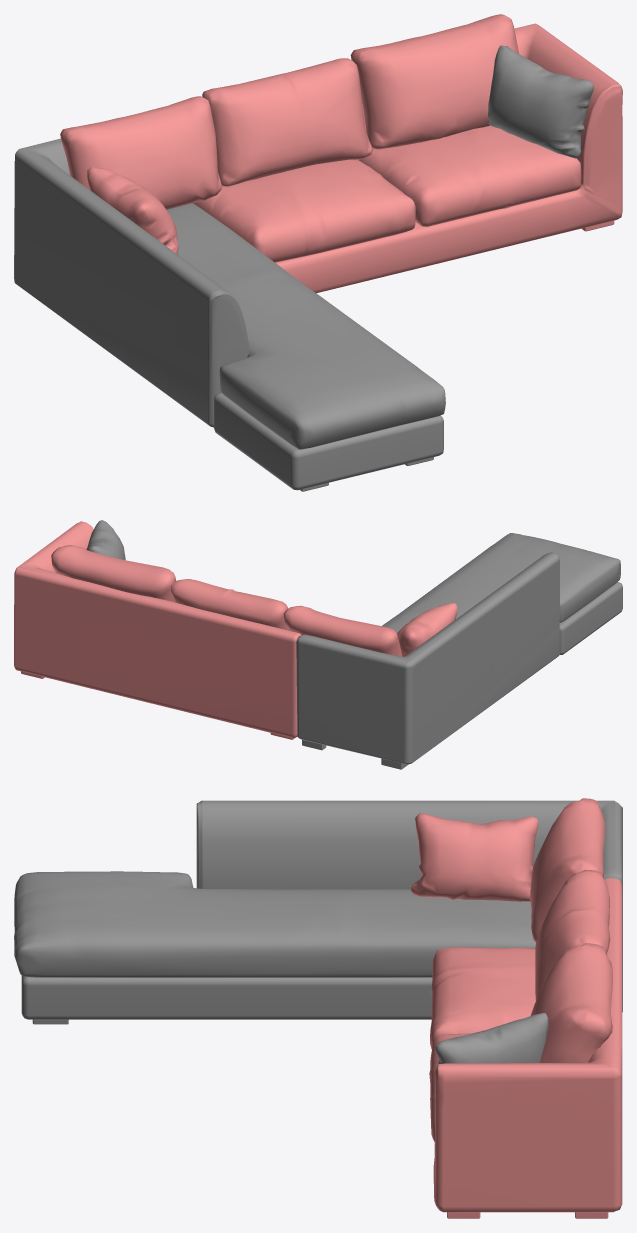
Rendered from S_Envi_Wlbl_Chair_03a.gltf.
The picture shows the model from 3 angles, top to bottom: view 1: azimuth 30°, elevation 25°; view 2: azimuth 150°, elevation 25°; view 3: azimuth 270°, elevation 25°; orthographic projection. The views are drawn at different scales.
Visible parts, largest first — view 1: S_Envi_Wlbl_Chair_03a; view 2: S_Envi_Wlbl_Chair_03a; view 3: S_Envi_Wlbl_Chair_03a.
Part boxes in pixels (bbox=[...]): S_Envi_Wlbl_Chair_03a: bbox=[14, 14, 622, 491]; S_Envi_Wlbl_Chair_03a: bbox=[14, 520, 622, 769]; S_Envi_Wlbl_Chair_03a: bbox=[14, 798, 622, 1218].
Size of the model in its own units: 2.52 by 0.7858 by 2.38.
